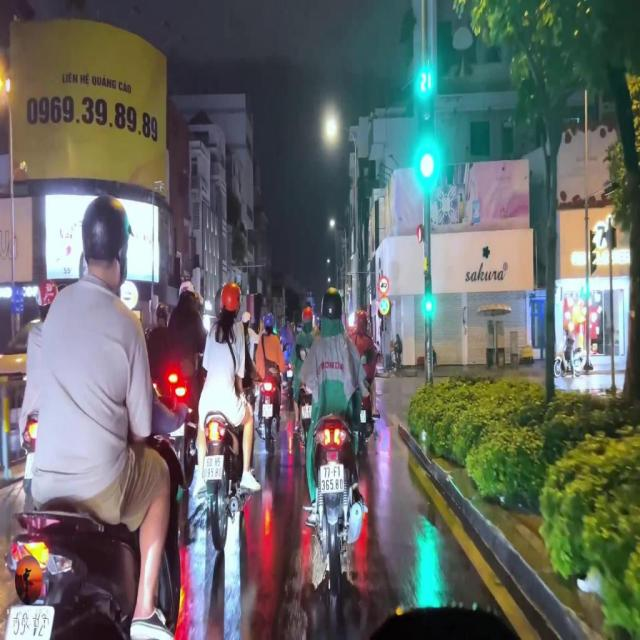cam_dung_xe_va_do_xe: (379, 296, 389, 316)
cam_o_to_tai: (379, 276, 389, 296)
